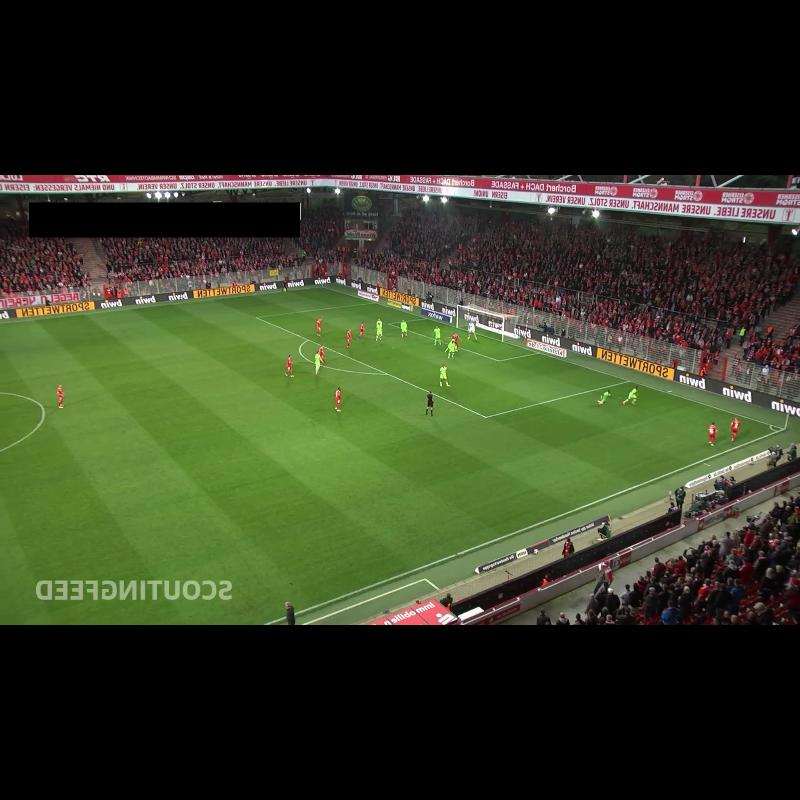cross_recipient_zone: (257, 302, 630, 417)
crossing_player_zone: (359, 381, 785, 536), (131, 287, 374, 330)
pitch: (0, 287, 785, 625)
